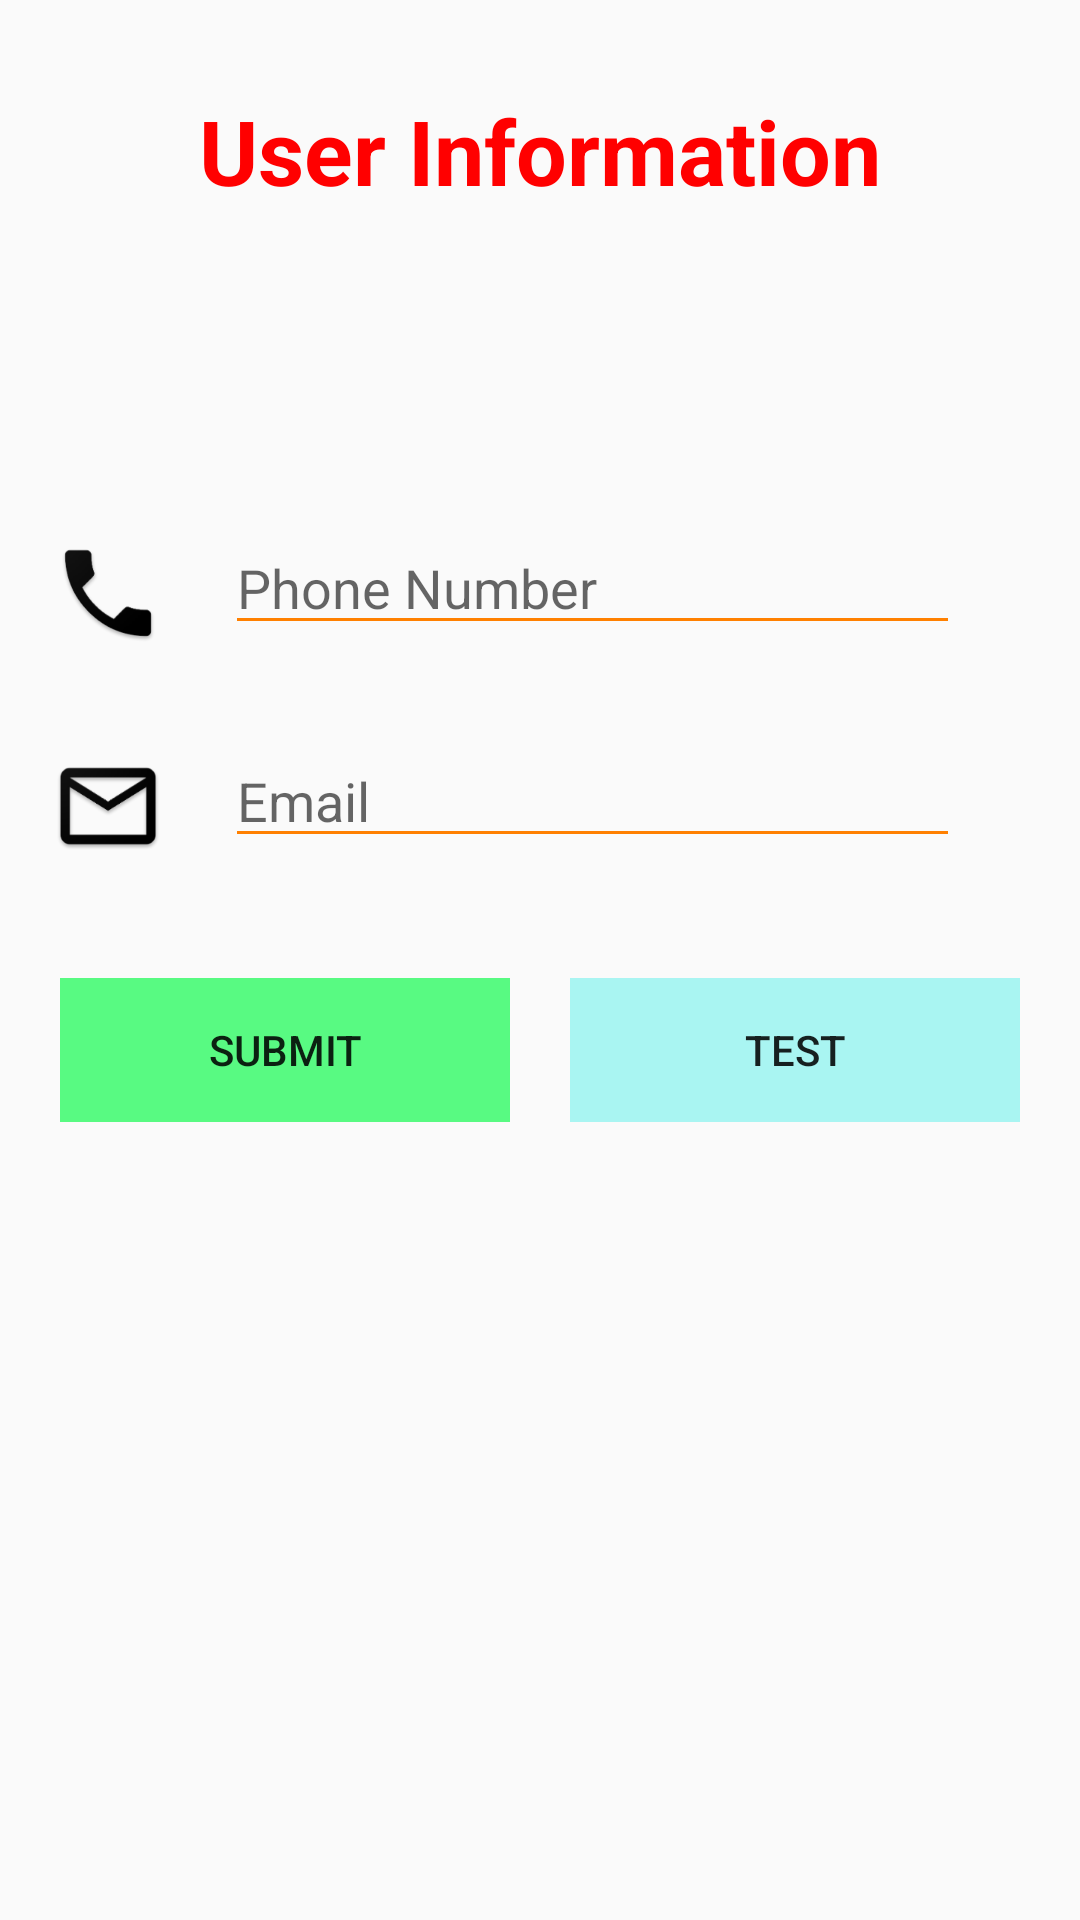

Locate icon controls on the screen. Image size 1080*1920, boxes as (x1, y1, x2, y2).
telephone: (64, 550, 152, 639)
